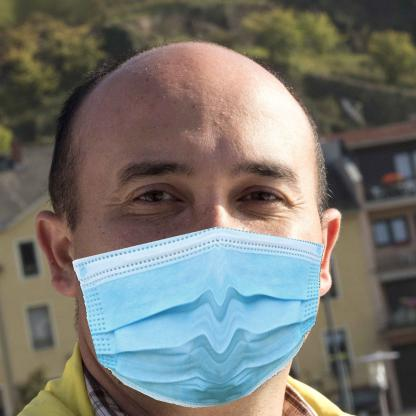Correctly_Masked: (62, 40, 330, 408)
